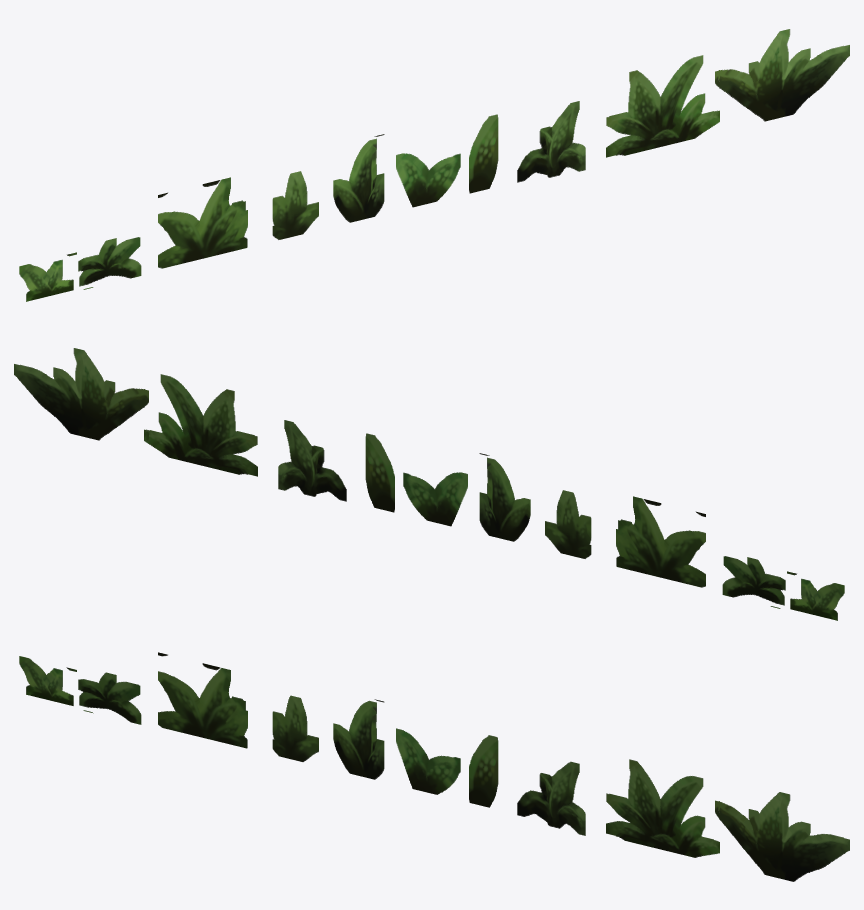
The model's file is P_Bush06_Sanseviera.fbx.
3 views of the same model, one above another, from view 1: azimuth 30°, elevation 25°; view 2: azimuth 150°, elevation 25°; view 3: azimuth 330°, elevation 25° (orthographic).
Parts seen in each view (by area): view 1: mesh_Sanseviera_B, mesh_Sanseviera_A, mesh_Sanseviera_H, mesh_Sanseviera_C, mesh_Sanseviera_F, mesh_Sanseviera_E, mesh_Sanseviera_G, mesh_Sanseviera_I, mesh_Sanseviera_D, mesh_Sanseviera_J; view 2: mesh_Sanseviera_B, mesh_Sanseviera_A, mesh_Sanseviera_H, mesh_Sanseviera_C, mesh_Sanseviera_F, mesh_Sanseviera_E, mesh_Sanseviera_G, mesh_Sanseviera_I, mesh_Sanseviera_D, mesh_Sanseviera_J; view 3: mesh_Sanseviera_B, mesh_Sanseviera_A, mesh_Sanseviera_H, mesh_Sanseviera_C, mesh_Sanseviera_F, mesh_Sanseviera_E, mesh_Sanseviera_G, mesh_Sanseviera_I, mesh_Sanseviera_D, mesh_Sanseviera_J.
Boxes of the visible parts, x1,y1,x2,y2 form: mesh_Sanseviera_B: [606, 55, 719, 157]; mesh_Sanseviera_A: [715, 29, 849, 121]; mesh_Sanseviera_H: [158, 177, 247, 268]; mesh_Sanseviera_C: [517, 101, 585, 182]; mesh_Sanseviera_F: [333, 134, 384, 222]; mesh_Sanseviera_E: [396, 153, 460, 207]; mesh_Sanseviera_G: [272, 171, 318, 239]; mesh_Sanseviera_I: [78, 237, 141, 289]; mesh_Sanseviera_D: [469, 114, 498, 193]; mesh_Sanseviera_J: [19, 252, 76, 301]; mesh_Sanseviera_B: [144, 374, 257, 476]; mesh_Sanseviera_A: [14, 348, 148, 442]; mesh_Sanseviera_H: [616, 496, 705, 587]; mesh_Sanseviera_C: [278, 420, 346, 501]; mesh_Sanseviera_F: [479, 453, 530, 541]; mesh_Sanseviera_E: [403, 472, 467, 526]; mesh_Sanseviera_G: [545, 490, 591, 558]; mesh_Sanseviera_I: [722, 556, 785, 608]; mesh_Sanseviera_D: [365, 433, 394, 512]; mesh_Sanseviera_J: [787, 571, 844, 620]; mesh_Sanseviera_B: [606, 759, 719, 857]; mesh_Sanseviera_A: [715, 792, 849, 881]; mesh_Sanseviera_H: [158, 652, 247, 748]; mesh_Sanseviera_C: [517, 761, 585, 835]; mesh_Sanseviera_F: [333, 699, 384, 779]; mesh_Sanseviera_E: [396, 728, 460, 794]; mesh_Sanseviera_G: [272, 695, 318, 761]; mesh_Sanseviera_I: [78, 672, 141, 724]; mesh_Sanseviera_D: [469, 735, 498, 807]; mesh_Sanseviera_J: [19, 656, 76, 705].
Size of the model in its own units: 586 by 61.54 by 3.77e-05.
